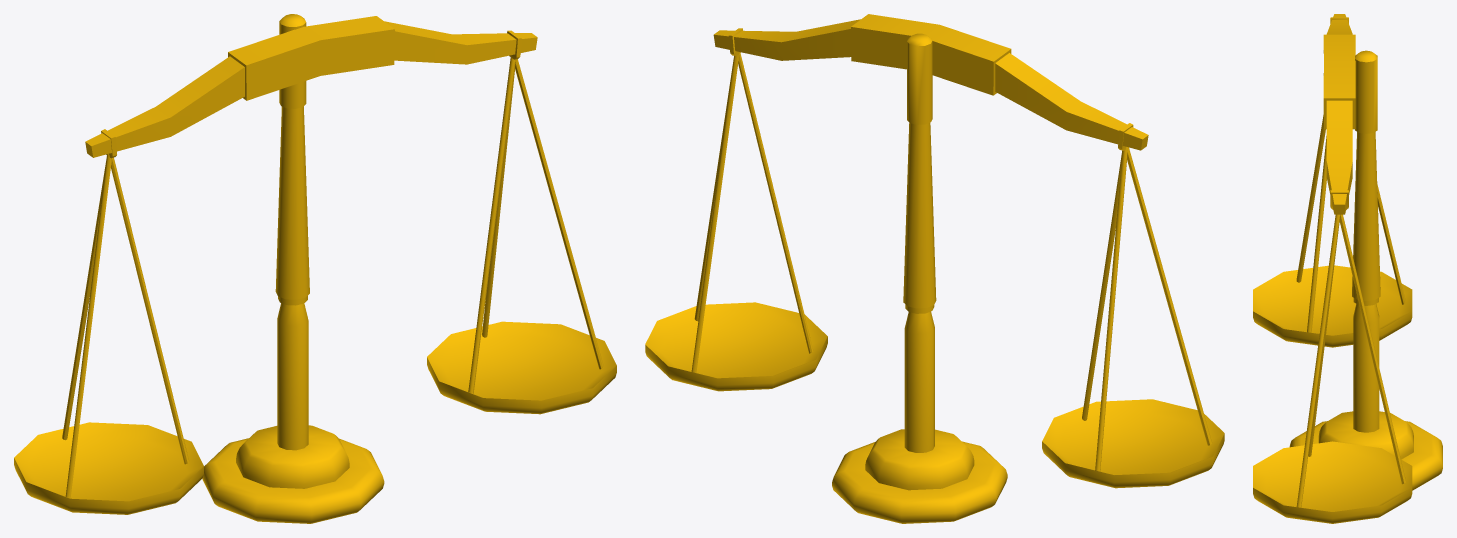
Rendered from Balance_3.fbx.
3 renders of one model, left to right at view 1: azimuth 30°, elevation 25°; view 2: azimuth 150°, elevation 25°; view 3: azimuth 270°, elevation 25°, orthographic. The views are drawn at different scales.
Visible parts, largest first — view 1: Balance_3; view 2: Balance_3; view 3: Balance_3.
Boxes of the visible parts, left/top/right/bottom form: Balance_3: left=14, top=14, right=616, bottom=523; Balance_3: left=645, top=14, right=1224, bottom=523; Balance_3: left=1253, top=14, right=1442, bottom=523.
Bounding box in the file's own units: 0.4295 × 0.3349 × 0.1394.
